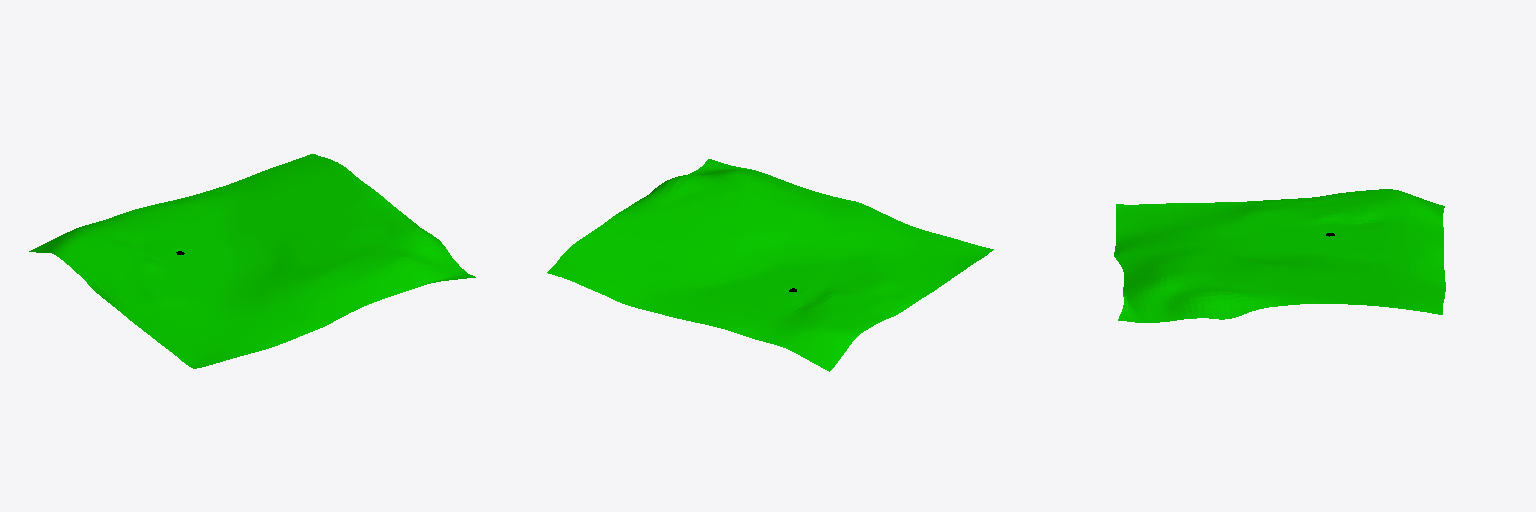
The model's file is Testing_Green.obj.
3 renders of one model, left to right at view 1: azimuth 30°, elevation 25°; view 2: azimuth 150°, elevation 25°; view 3: azimuth 270°, elevation 25°, orthographic.
Visible parts, largest first — view 1: Plane; view 2: Plane; view 3: Plane.
Part boxes in pixels (bbox=[...]): Plane: bbox=[29, 154, 475, 368]; Plane: bbox=[547, 159, 993, 371]; Plane: bbox=[1114, 189, 1445, 322].
Bounding box in the file's own units: 8.21 × 1.11 × 8.13.